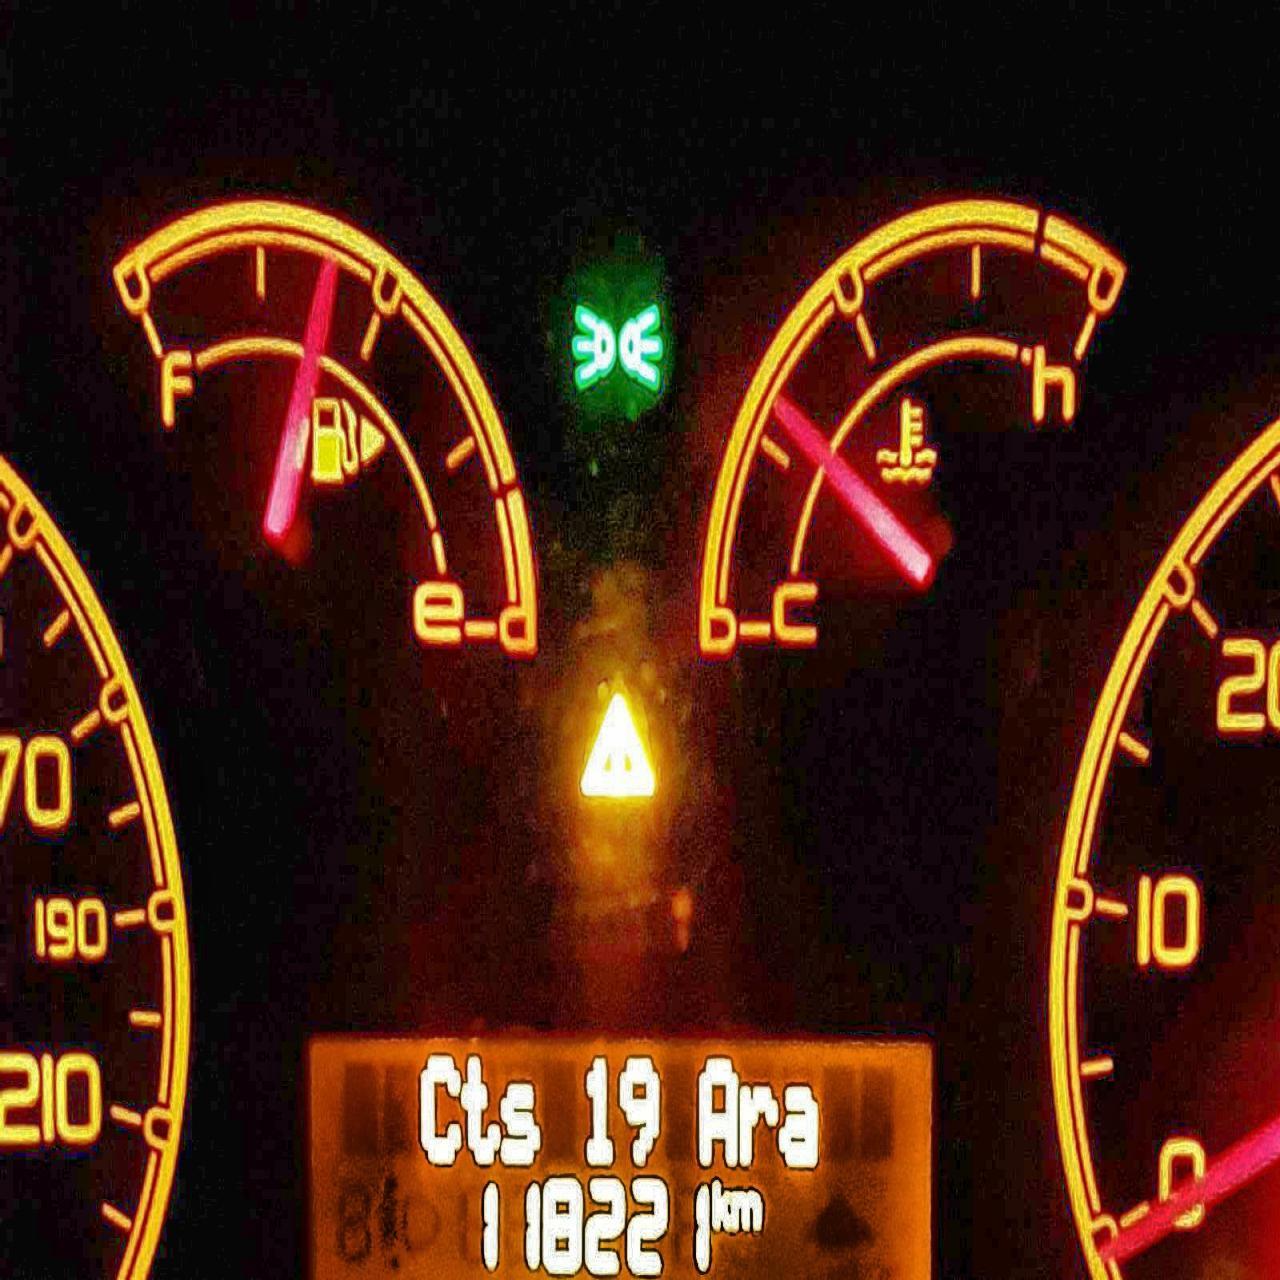1: (581, 1054, 618, 1165), (475, 1176, 505, 1271), (520, 1178, 538, 1276), (695, 1186, 713, 1273)
2: (584, 1173, 625, 1276), (626, 1175, 667, 1275)
8: (540, 1169, 584, 1278)
9: (618, 1051, 665, 1169)
X: (417, 1054, 462, 1167), (462, 1054, 502, 1165), (697, 1058, 736, 1162), (737, 1078, 778, 1163), (501, 1085, 537, 1162), (783, 1090, 817, 1167), (731, 1191, 763, 1235), (713, 1176, 731, 1232)
odometer: (288, 1023, 952, 1279)
